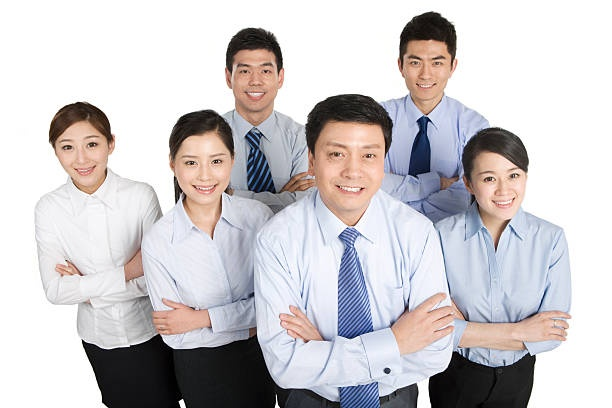person: (252, 94, 444, 408), (139, 109, 274, 408), (34, 104, 163, 408), (434, 126, 572, 408), (377, 9, 475, 220), (223, 26, 313, 205)
